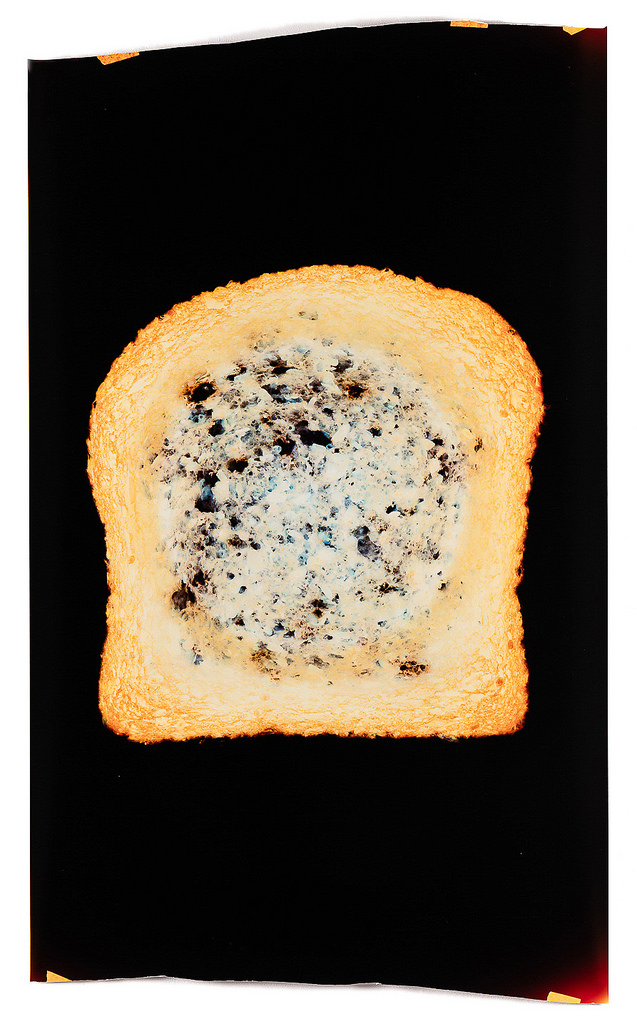slice of bread: (85, 288, 534, 744)
